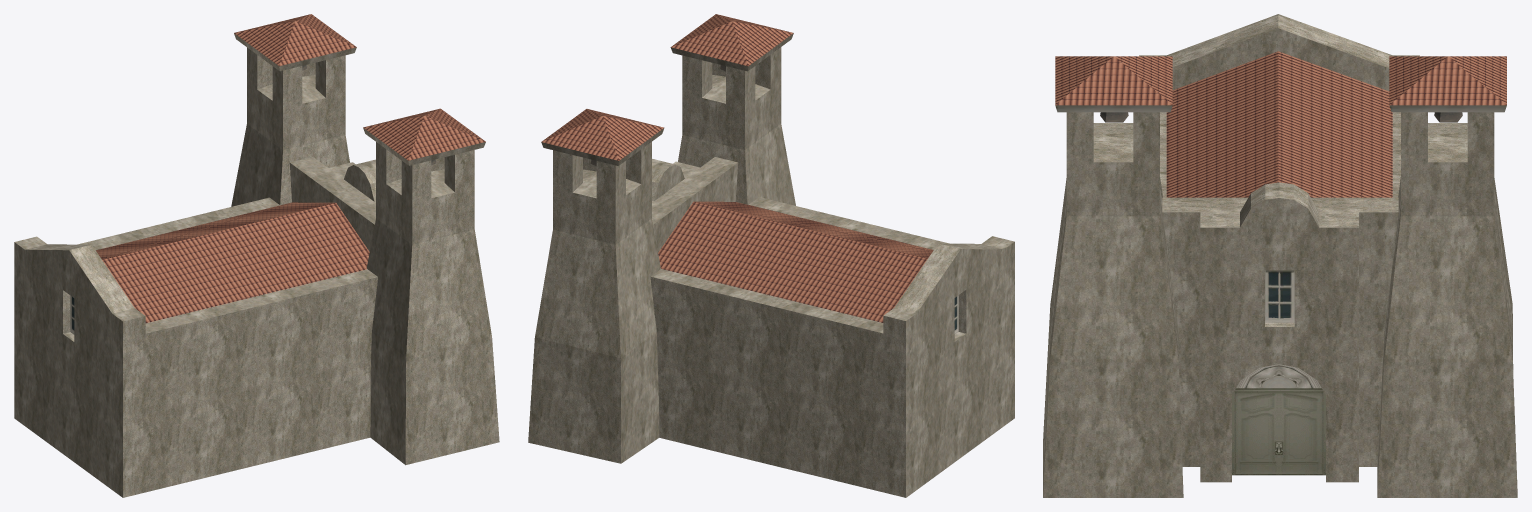
Rendered from des_adobech.obj.
The picture shows the model from 3 angles, left to right: view 1: azimuth 30°, elevation 25°; view 2: azimuth 150°, elevation 25°; view 3: azimuth 270°, elevation 25°; orthographic projection. The views are drawn at different scales.
Parts seen in each view (by area): view 1: des_adobech; view 2: des_adobech; view 3: des_adobech.
Boxes of the visible parts, box(x1,y1,x2,y2) form: des_adobech: box(14, 14, 499, 497); des_adobech: box(528, 14, 1014, 497); des_adobech: box(1043, 14, 1517, 497).
Size of the model in its own units: 11.44 by 10.24 by 10.7.
Materials: 5 (5 with a texture image).
